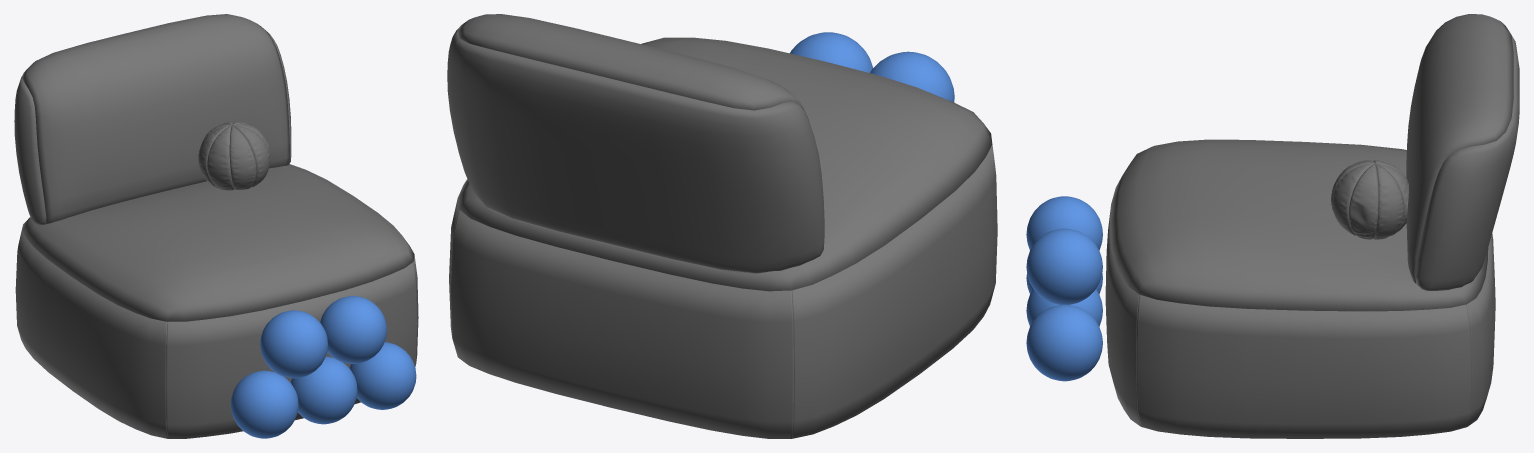
File: Nelvi_Armchair_By_Divan__corona.obj
The picture shows the model from 3 angles, left to right: view 1: azimuth 30°, elevation 25°; view 2: azimuth 150°, elevation 25°; view 3: azimuth 270°, elevation 25°; orthographic projection. The views are drawn at different scales.
Visible parts, largest first — view 1: Nelvi_Armchair_By_Divan_005, Nelvi_Armchair_By_Divan_007, Nelvi_Armchair_By_Divan_004, Nelvi_Armchair_By_Divan_003, Nelvi_Armchair_By_Divan_002, Nelvi_Armchair_By_Divan_001; view 2: Nelvi_Armchair_By_Divan_005, Nelvi_Armchair_By_Divan_004, Nelvi_Armchair_By_Divan_003; view 3: Nelvi_Armchair_By_Divan_005, Nelvi_Armchair_By_Divan_001, Nelvi_Armchair_By_Divan_003, Nelvi_Armchair_By_Divan_004, Nelvi_Armchair_By_Divan_002.
Part boxes in pixels (x1,y1,x2,y2): Nelvi_Armchair_By_Divan_005: (14, 14, 418, 438); Nelvi_Armchair_By_Divan_007: (230, 370, 298, 438); Nelvi_Armchair_By_Divan_004: (260, 310, 327, 378); Nelvi_Armchair_By_Divan_003: (320, 296, 386, 363); Nelvi_Armchair_By_Divan_002: (290, 356, 357, 424); Nelvi_Armchair_By_Divan_001: (349, 342, 416, 409); Nelvi_Armchair_By_Divan_005: (447, 14, 997, 438); Nelvi_Armchair_By_Divan_004: (870, 51, 954, 102); Nelvi_Armchair_By_Divan_003: (790, 32, 872, 72); Nelvi_Armchair_By_Divan_005: (1105, 14, 1519, 438); Nelvi_Armchair_By_Divan_001: (1026, 304, 1102, 381); Nelvi_Armchair_By_Divan_003: (1026, 228, 1102, 304); Nelvi_Armchair_By_Divan_004: (1026, 196, 1102, 250); Nelvi_Armchair_By_Divan_002: (1026, 289, 1102, 326).
Size of the model in its own units: 846 by 742 by 1070.
